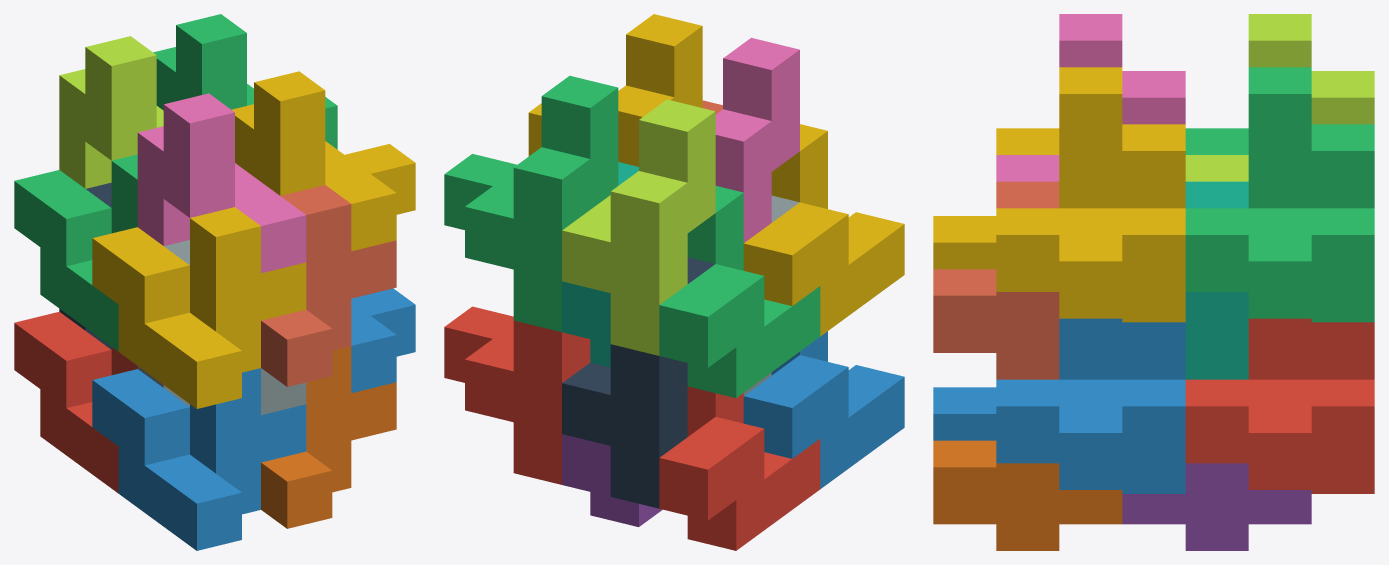
Rendered from tiling.obj.
The picture shows the model from 3 angles, left to right: view 1: azimuth 30°, elevation 25°; view 2: azimuth 150°, elevation 25°; view 3: azimuth 270°, elevation 25°; orthographic projection. The views are drawn at different scales.
Parts seen in each view (by area): view 1: copy_1_domain_4, copy_1_domain_2, copy_2_domain_4, copy_2_domain_8, copy_1_domain_8, copy_1_domain_3, copy_1_domain_6, copy_2_domain_3, copy_1_domain_1, copy_2_domain_7, copy_2_domain_6, copy_2_domain_2 (+1 smaller); view 2: copy_2_domain_7, copy_2_domain_3, copy_1_domain_3, copy_1_domain_4, copy_1_domain_1, copy_2_domain_5, copy_1_domain_2, copy_2_domain_1, copy_2_domain_4, copy_2_domain_8, copy_1_domain_5, copy_1_domain_7; view 3: copy_2_domain_8, copy_2_domain_7, copy_2_domain_6, copy_2_domain_5, copy_1_domain_6, copy_1_domain_8, copy_1_domain_5, copy_2_domain_4, copy_2_domain_3, copy_1_domain_7, copy_1_domain_4, copy_1_domain_2 (+1 smaller).
Boxes of the visible parts, x1=… form: copy_1_domain_4: x1=92, y1=207, x2=306, y2=408; copy_1_domain_2: x1=92, y1=368, x2=306, y2=550; copy_2_domain_4: x1=137, y1=93, x2=306, y2=273; copy_2_domain_8: x1=231, y1=71, x2=415, y2=251; copy_1_domain_8: x1=261, y1=185, x2=396, y2=386; copy_1_domain_3: x1=14, y1=154, x2=137, y2=351; copy_1_domain_6: x1=261, y1=346, x2=396, y2=528; copy_2_domain_3: x1=59, y1=36, x2=163, y2=188; copy_1_domain_1: x1=14, y1=311, x2=137, y2=493; copy_2_domain_7: x1=153, y1=14, x2=337, y2=149; copy_2_domain_6: x1=351, y1=288, x2=415, y2=392; copy_2_domain_2: x1=137, y1=240, x2=306, y2=415; copy_2_domain_7: x1=444, y1=75, x2=618, y2=331; copy_2_domain_3: x1=562, y1=99, x2=715, y2=355; copy_1_domain_3: x1=659, y1=186, x2=820, y2=397; copy_1_domain_4: x1=743, y1=124, x2=904, y2=336; copy_1_domain_1: x1=659, y1=386, x2=820, y2=550; copy_2_domain_5: x1=444, y1=306, x2=590, y2=484; copy_1_domain_2: x1=743, y1=331, x2=904, y2=488; copy_2_domain_1: x1=562, y1=257, x2=714, y2=508; copy_2_domain_4: x1=715, y1=37, x2=799, y2=242; copy_2_domain_8: x1=528, y1=14, x2=702, y2=166; copy_1_domain_5: x1=562, y1=434, x2=662, y2=526; copy_1_domain_7: x1=562, y1=162, x2=638, y2=367; copy_2_domain_8: x1=996, y1=67, x2=1185, y2=322; copy_2_domain_7: x1=1185, y1=67, x2=1374, y2=322; copy_2_domain_6: x1=996, y1=318, x2=1185, y2=493; copy_2_domain_5: x1=1185, y1=318, x2=1374, y2=493; copy_1_domain_6: x1=933, y1=440, x2=1122, y2=550; copy_1_domain_8: x1=933, y1=181, x2=1059, y2=379; copy_1_domain_5: x1=1122, y1=463, x2=1311, y2=550; copy_2_domain_4: x1=996, y1=14, x2=1185, y2=181; copy_2_domain_3: x1=1185, y1=14, x2=1374, y2=181; copy_1_domain_7: x1=1185, y1=181, x2=1248, y2=379; copy_1_domain_4: x1=933, y1=128, x2=1059, y2=269; copy_1_domain_2: x1=933, y1=387, x2=996, y2=440.
Size of the model in its own units: 6 by 8 by 7.
